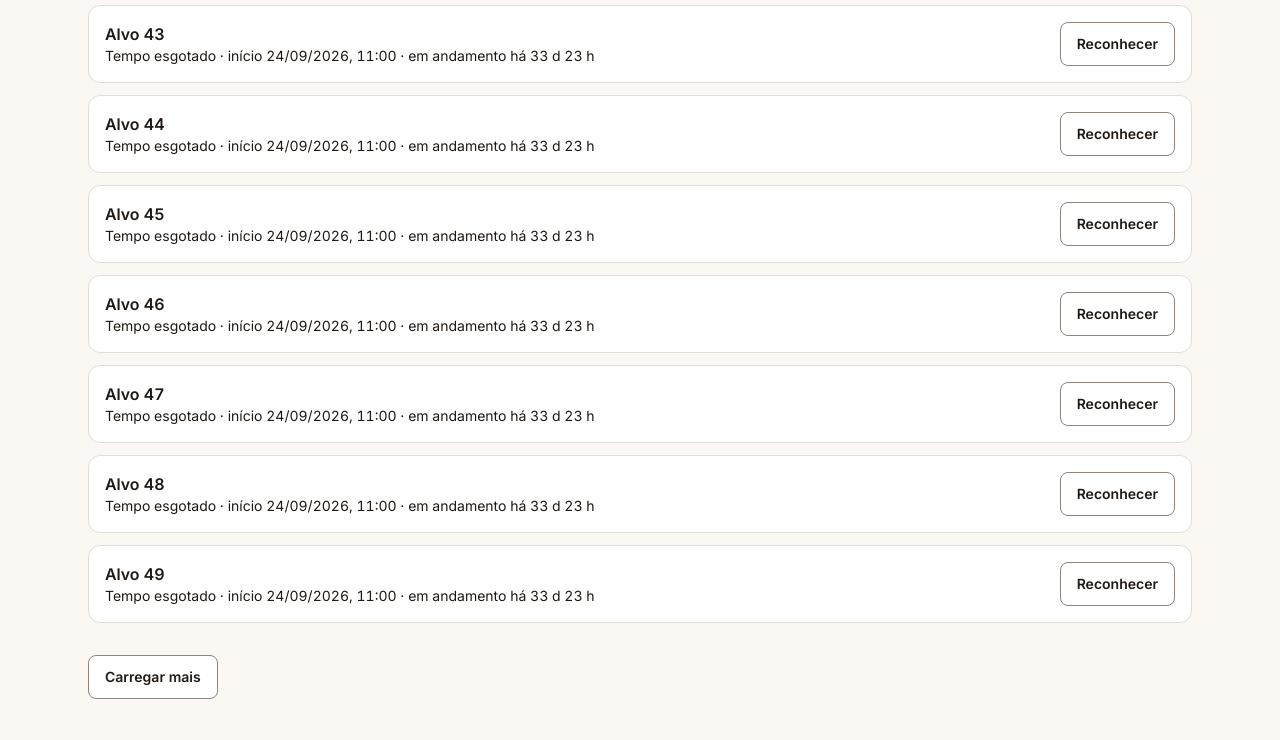
incidentes › "Carregar mais" que falha mantém a lista e avisa que os dados estão velhos
This screenshot has width=1280, height=740.
(page scrolled)
Click the button "Carregar mais" at (153, 677), box x1=88 y1=655 x2=218 y2=699
(page scrolled)
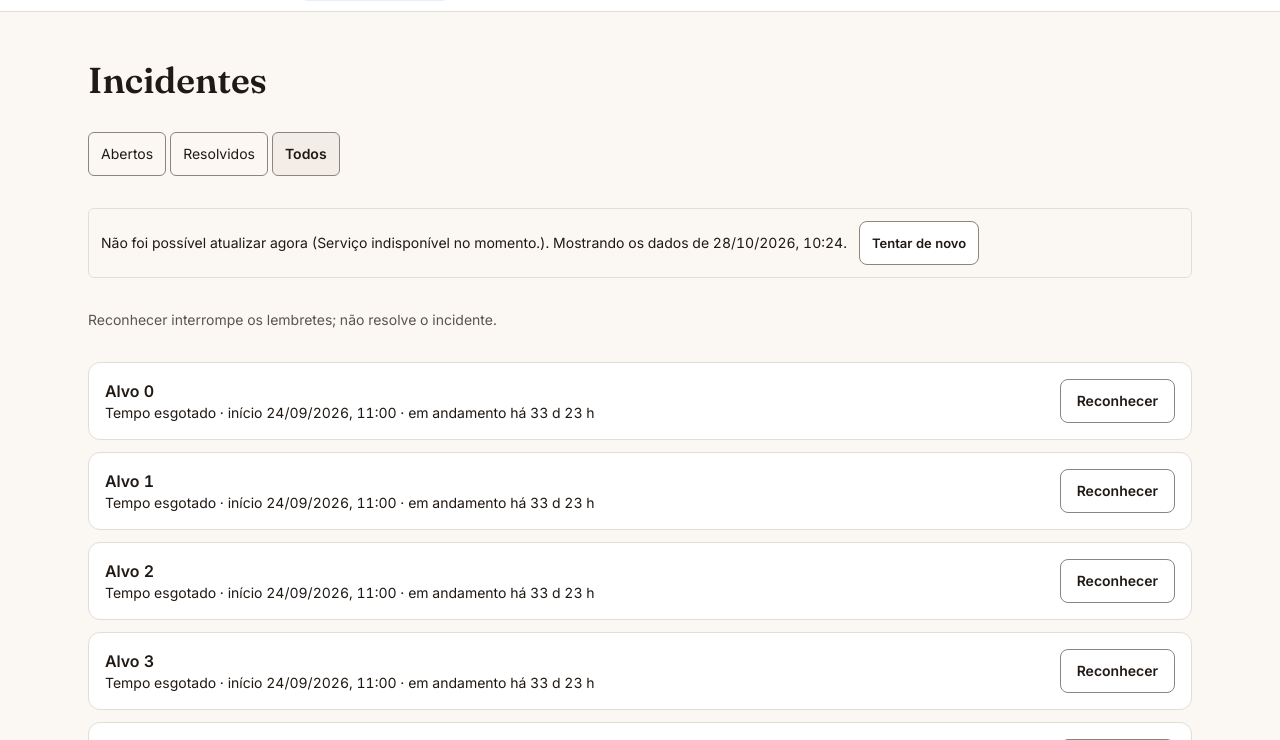
Expected: the text "Não foi possível atualizar agora" is shown, x1=101 y1=234 x2=317 y2=251
